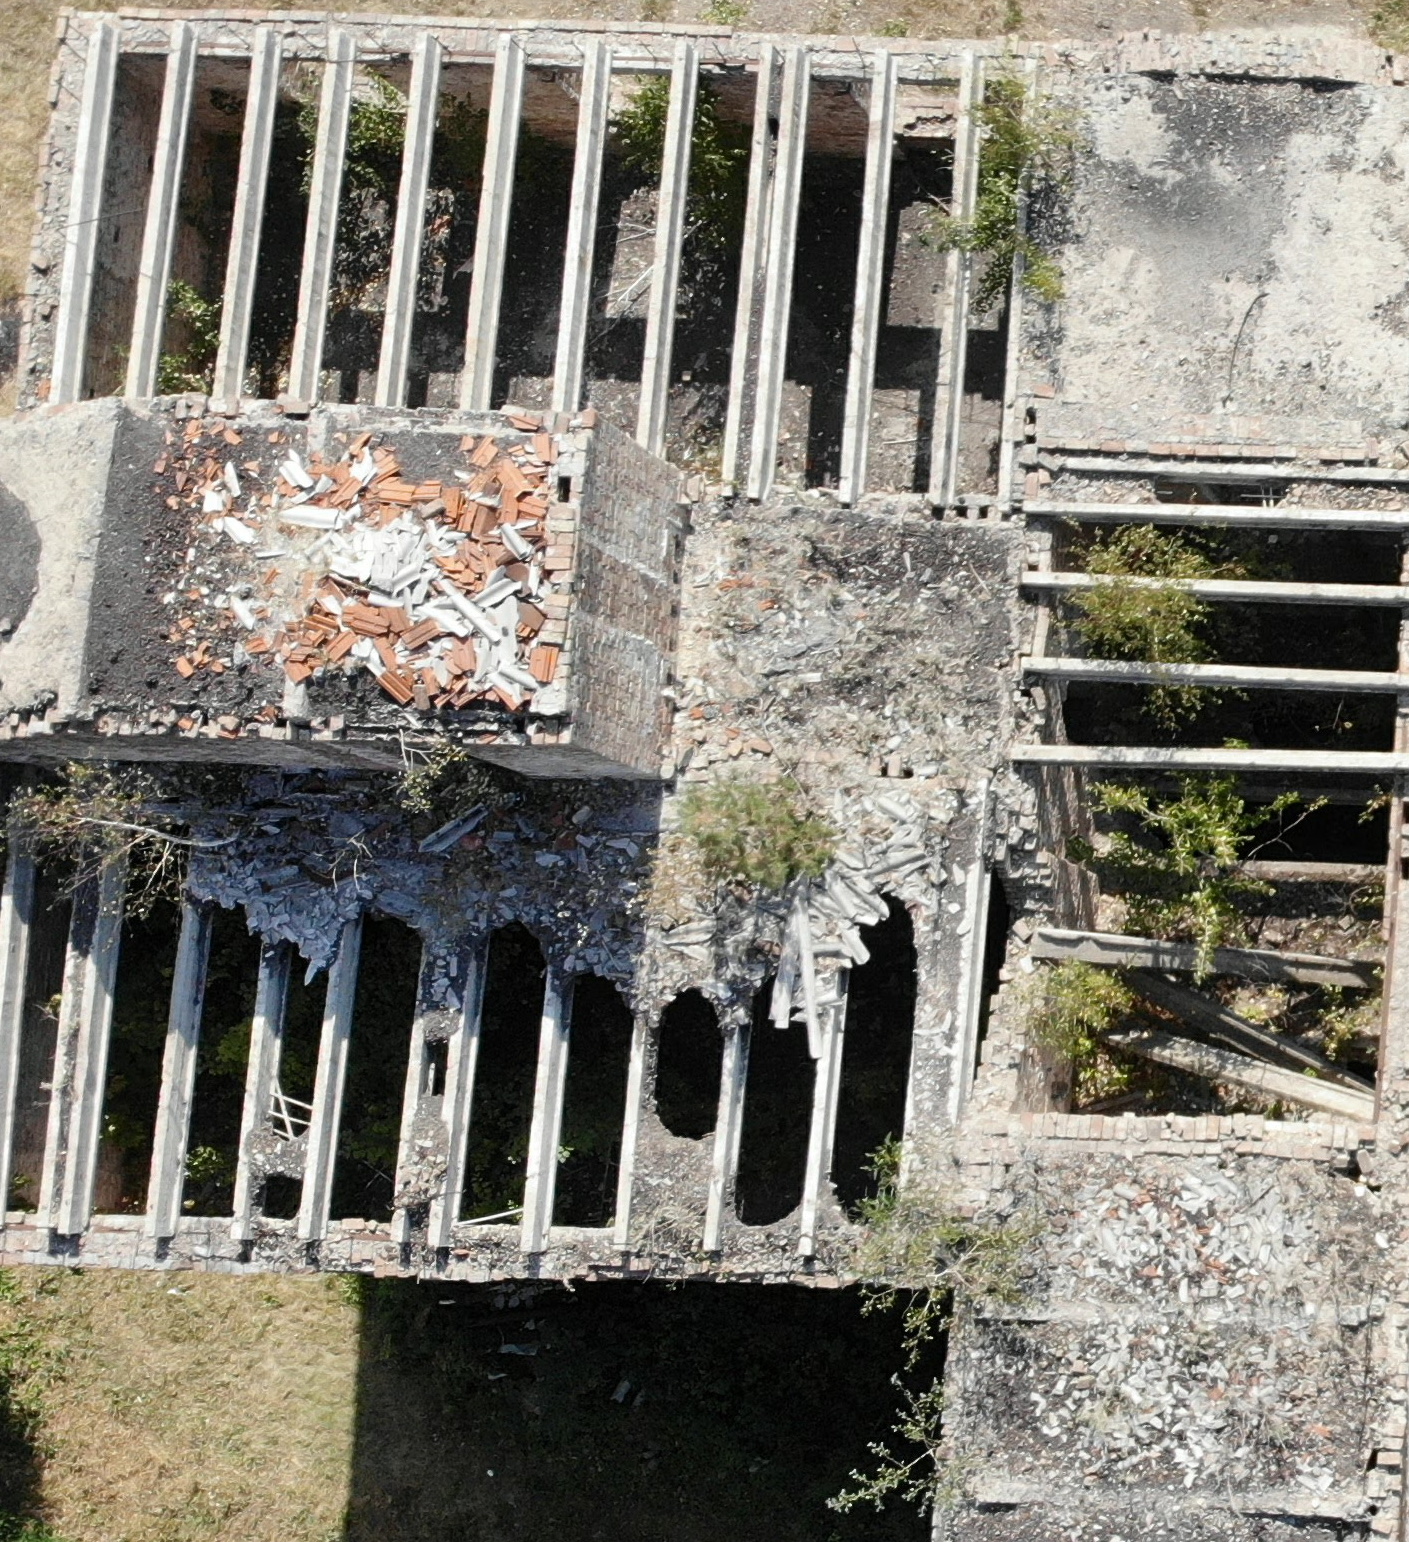tree: (1097, 747, 1342, 998), (839, 1104, 1072, 1357), (1062, 500, 1259, 770), (928, 77, 1105, 326), (646, 741, 860, 932), (831, 1365, 1053, 1542), (62, 741, 242, 938), (1021, 942, 1144, 1150)
